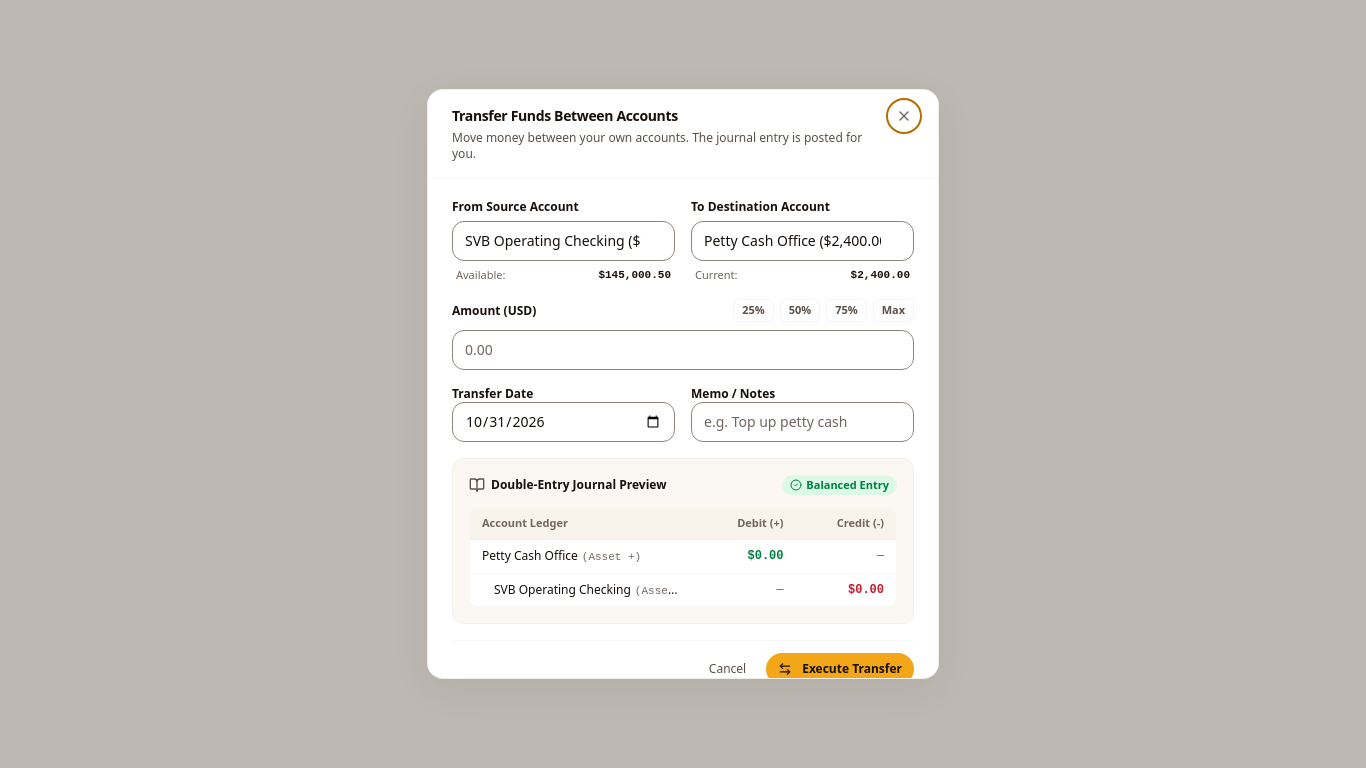
it: TransferFundsModal Component › calculates amount via quick percentage buttons
Click the button with test id "quick-amount-50".
click(800, 311)  # box [780,299,820,322]
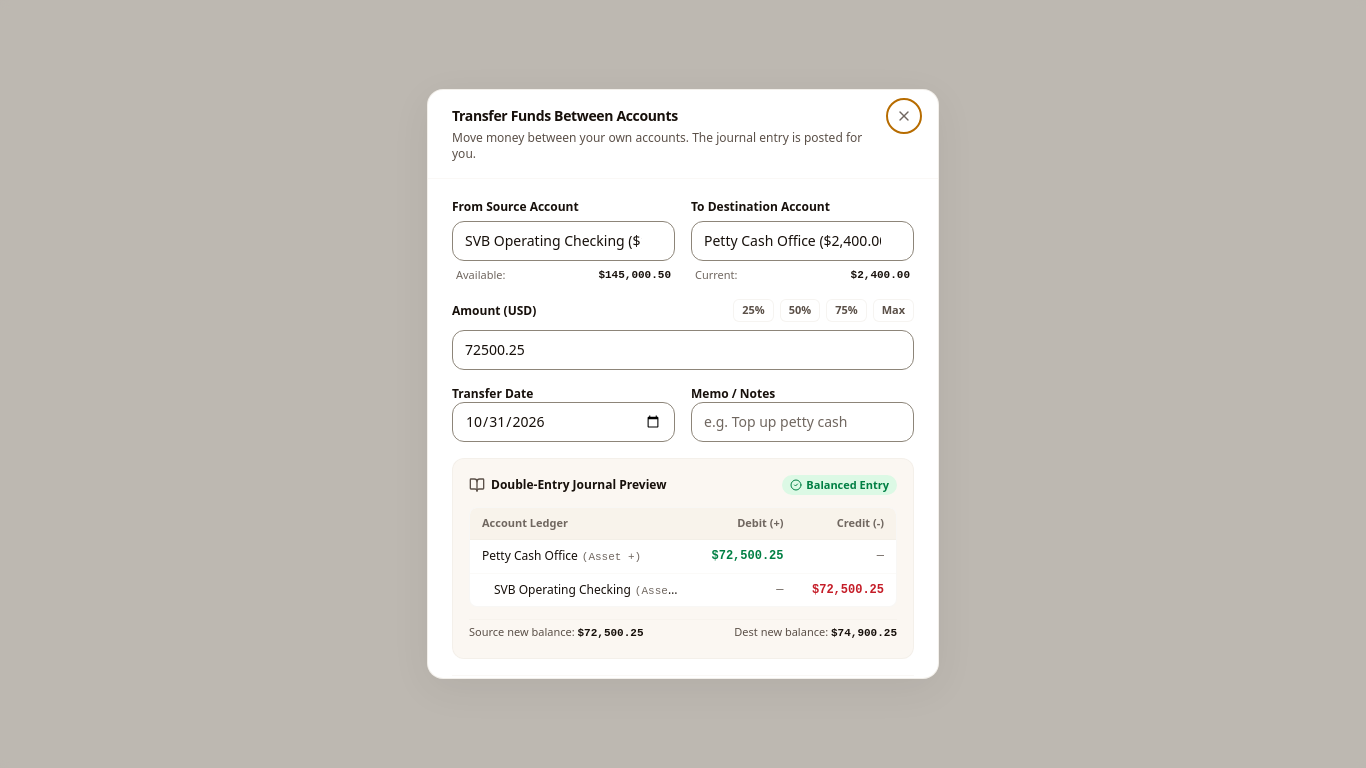
Now the number field with test id "input-transfer-amount" holds "72500.25", box [452,330,914,370]
